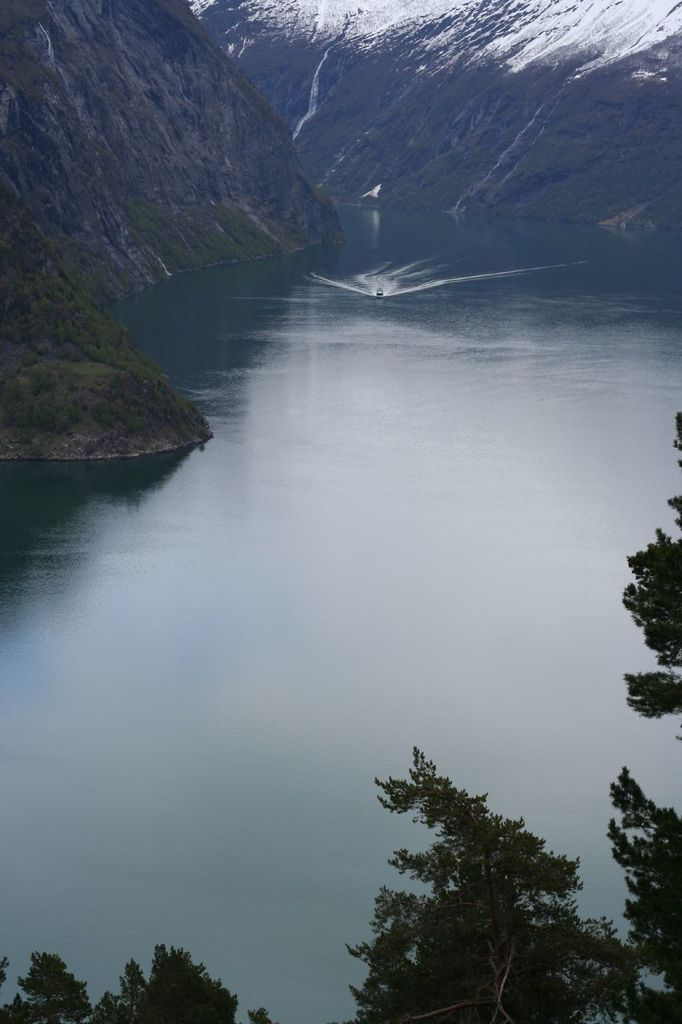Tree: (0, 409, 681, 1023)
